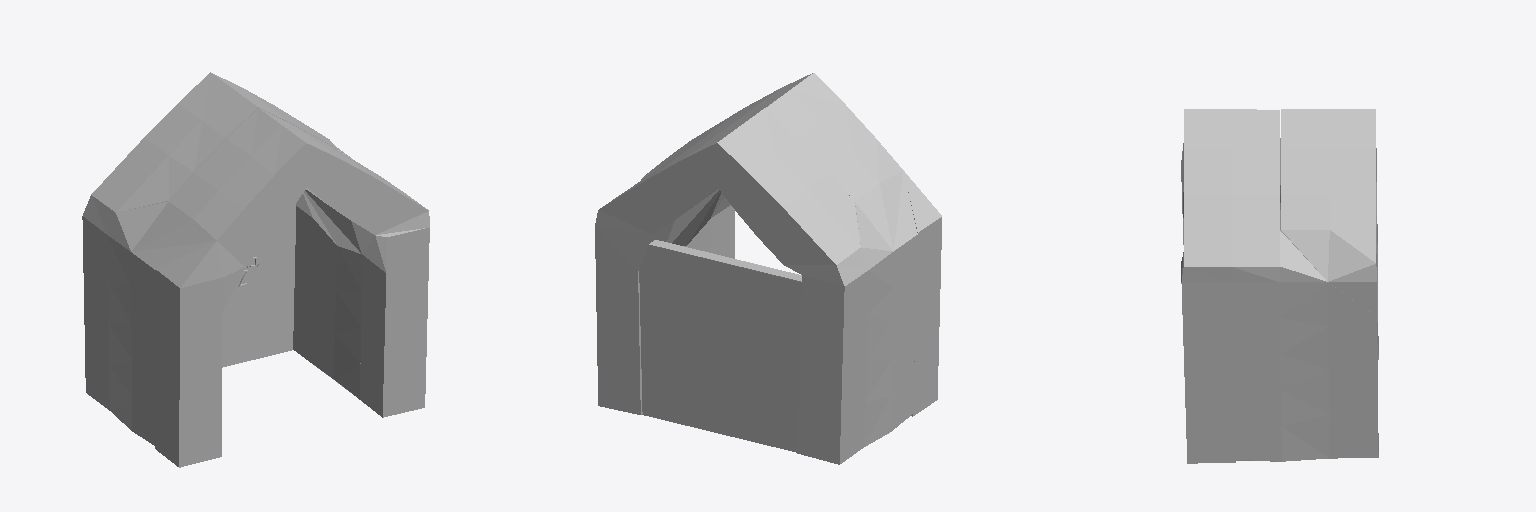
The model's file is house.obj.
3 renders of one model, left to right at view 1: azimuth 30°, elevation 25°; view 2: azimuth 150°, elevation 25°; view 3: azimuth 270°, elevation 25°, orthographic.
Parts seen in each view (by area): view 1: Mesh_0; view 2: Mesh_0; view 3: Mesh_0.
Part boxes in pixels (x1,y1,x2,y2): Mesh_0: (82, 72, 429, 467); Mesh_0: (595, 73, 941, 464); Mesh_0: (1181, 109, 1378, 463).
Size of the model in its own units: 0.6806 by 0.7685 by 0.4641.